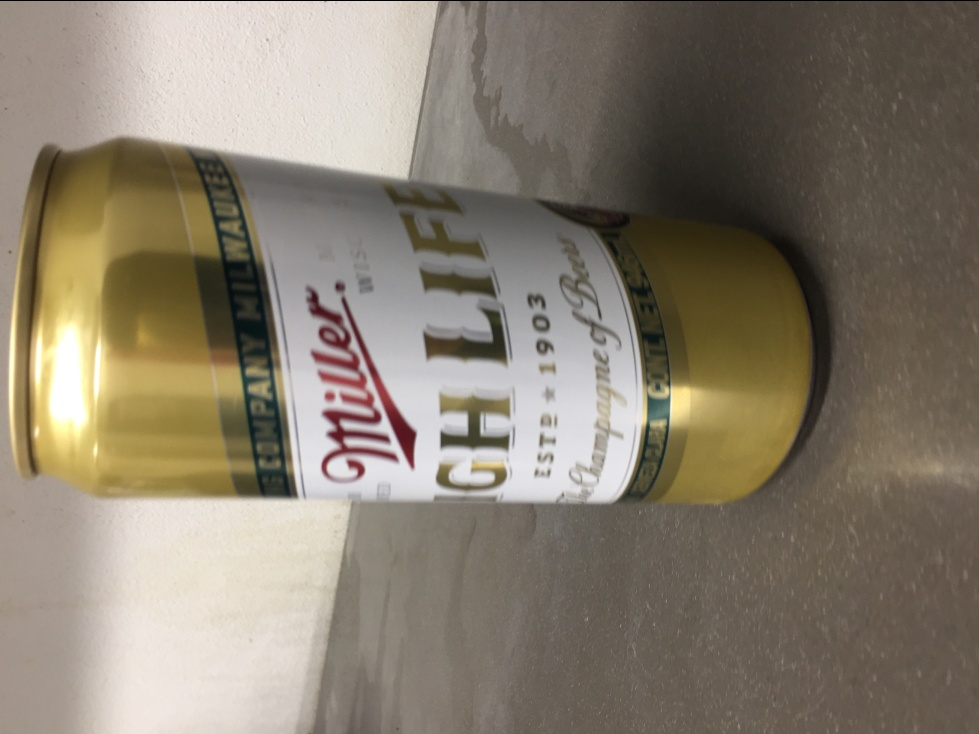miller: (6, 137, 819, 513)
